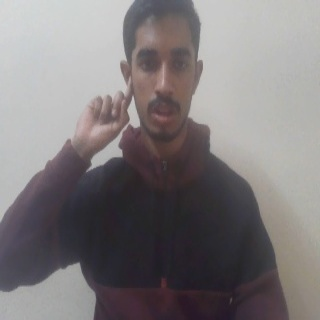Deaf: (68, 75, 132, 159)
Face: (118, 1, 206, 146)
